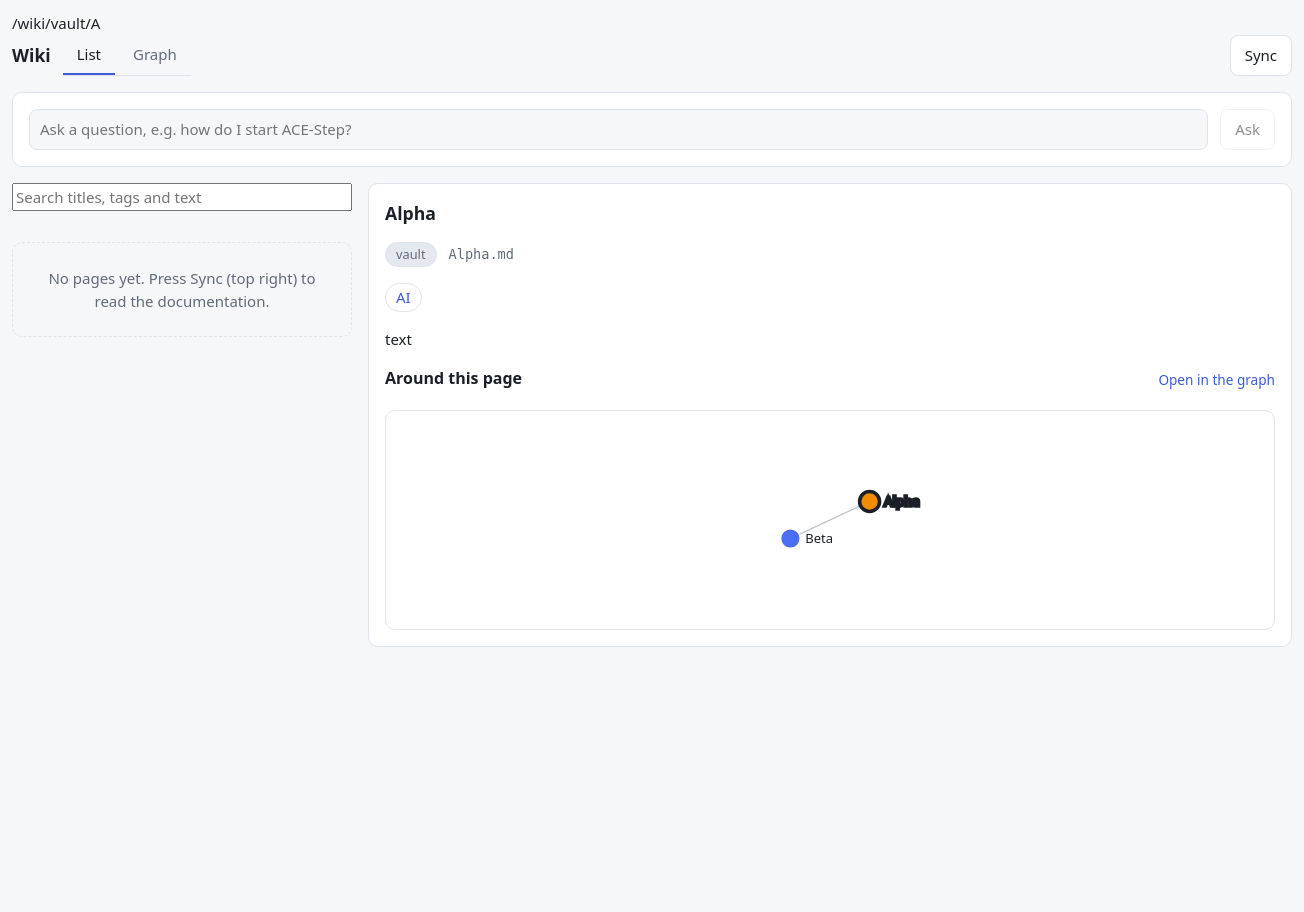
wiki graph view › switches between the list and the graph through the url, and shows a small graph in the page reader
Expected: the heading "Alpha" is shown, [385,200,436,224]
Expected: the element "Around this page" is shown, [385,366,1275,630]
What coordinates should you click on to do the following:
click the button "Graph"
I would click on:
 (155, 55)
Its box is [119,34,191,75].
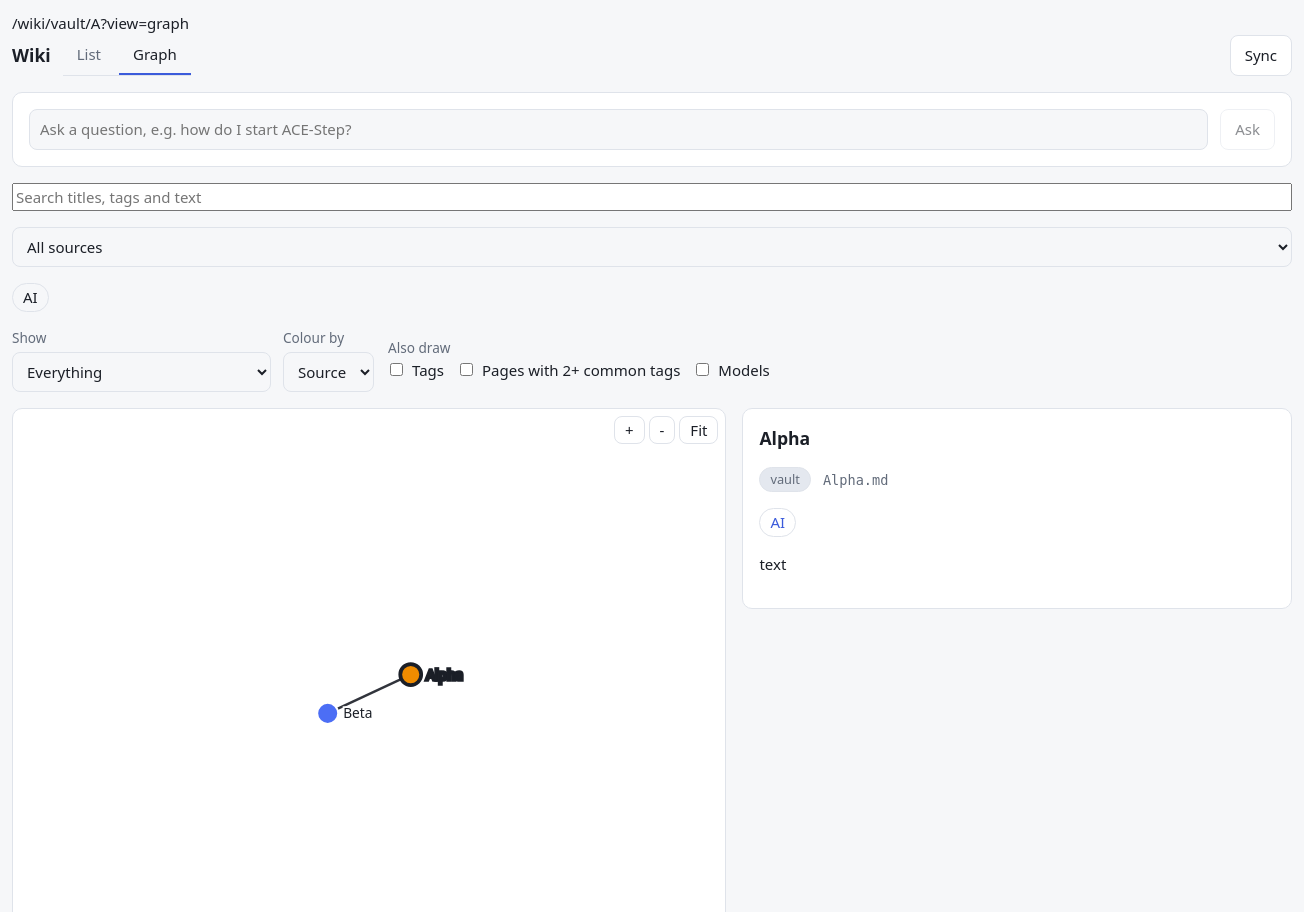
Now the text with test id "where" shows "view=graph", box [12,13,189,33]
What coordinates should you click on to do the following:
click the button "List"
I would click on:
 (89, 55)
Its box is [63,34,115,75].
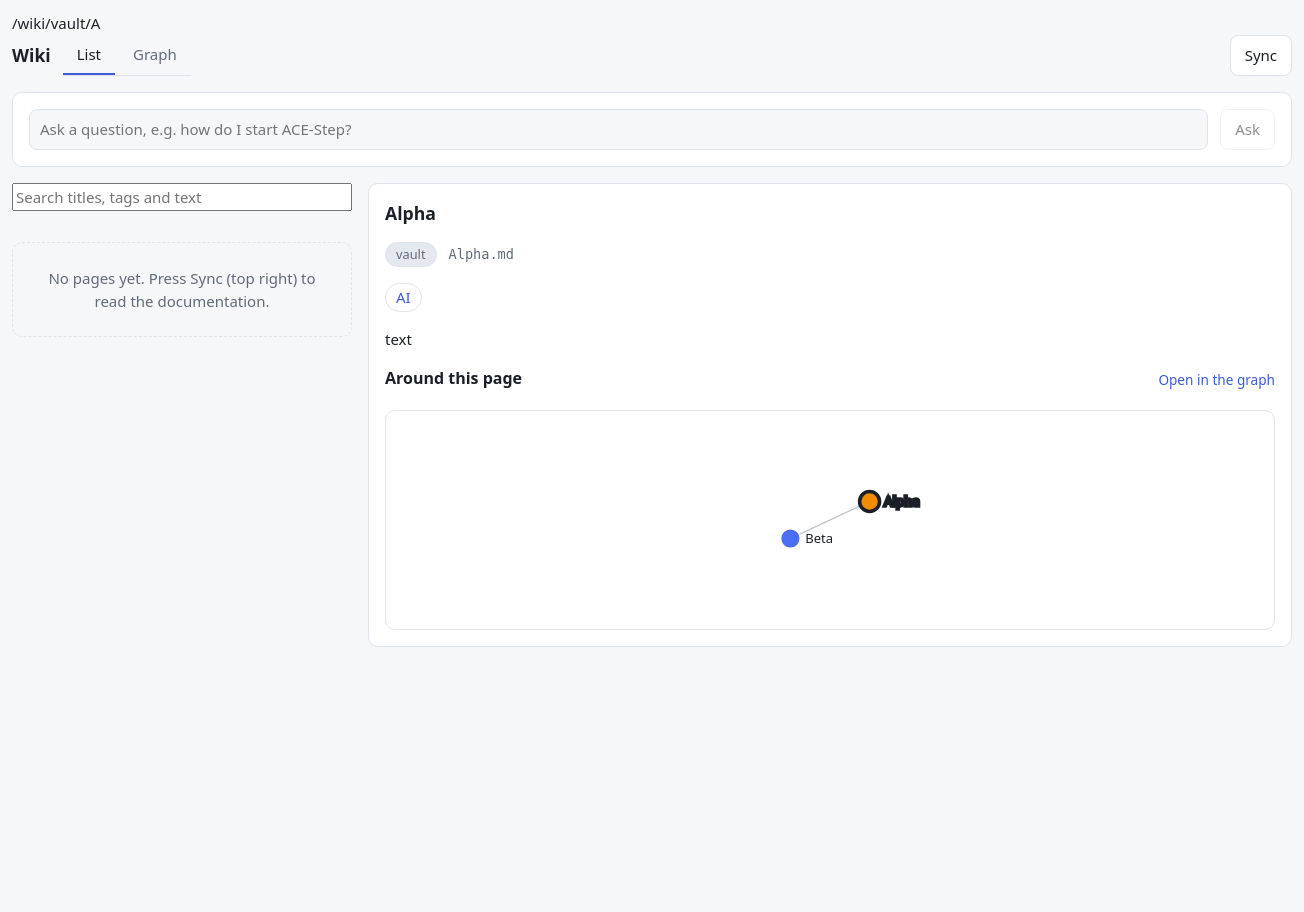
Now the text with test id "where" no longer shows "view=graph"
